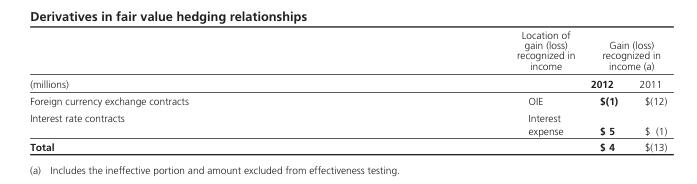table: (29, 28, 666, 153)
table column: (29, 28, 351, 153), (351, 28, 582, 153), (582, 28, 627, 153), (627, 28, 666, 153)
table column header: (29, 28, 666, 92)
table row: (29, 28, 666, 74), (29, 109, 666, 138), (29, 74, 666, 92), (29, 92, 666, 109), (29, 138, 666, 153)
table spanning cell: (29, 28, 351, 92), (351, 28, 582, 92), (582, 28, 666, 74)
